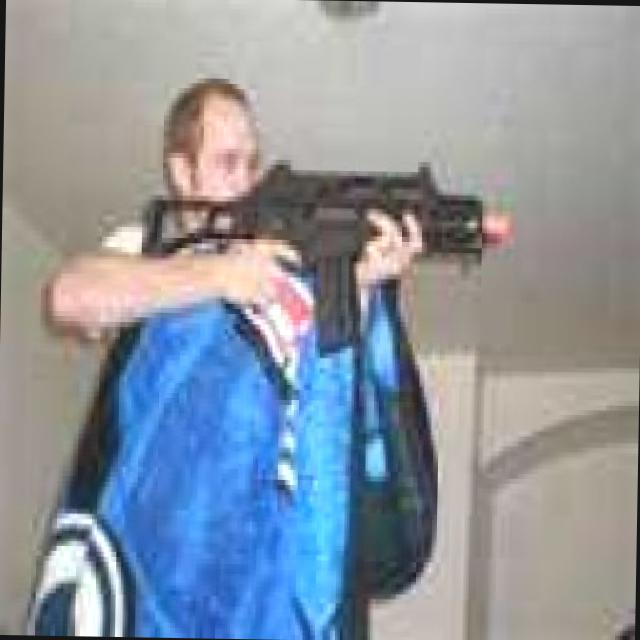long weapon: (133, 165, 526, 308)
